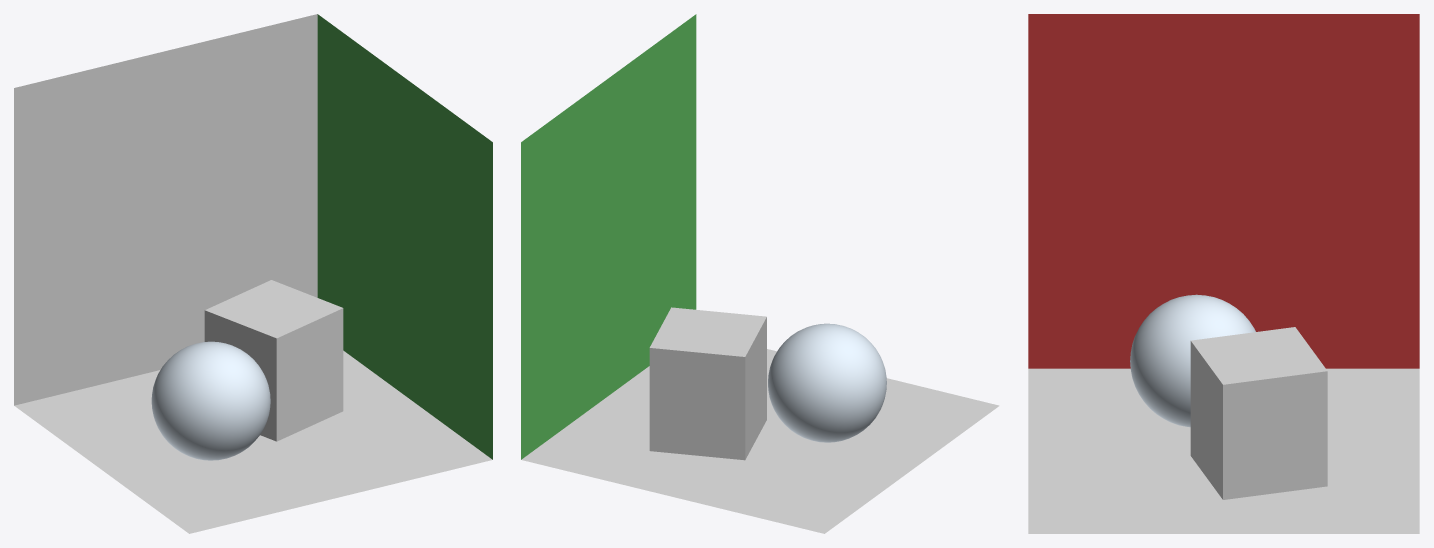
File: CornellGlass.gltf
3 views of the same model, side by side, from view 1: azimuth 30°, elevation 25°; view 2: azimuth 150°, elevation 25°; view 3: azimuth 270°, elevation 25° (orthographic). The views are drawn at different scales.
Parts seen in each view (by area): view 1: Cornell diffuse room, Closed unit sphere; view 2: Cornell diffuse room, Closed unit sphere; view 3: Cornell diffuse room, Closed unit sphere.
Boxes of the visible parts, box(x1,y1,x2,y2) form: Cornell diffuse room: box(14, 14, 492, 533); Closed unit sphere: box(151, 341, 270, 460); Cornell diffuse room: box(521, 14, 999, 533); Closed unit sphere: box(768, 323, 886, 442); Cornell diffuse room: box(1028, 14, 1419, 533); Closed unit sphere: box(1130, 294, 1255, 427).
Size of the model in its own units: 2 by 2 by 2.
